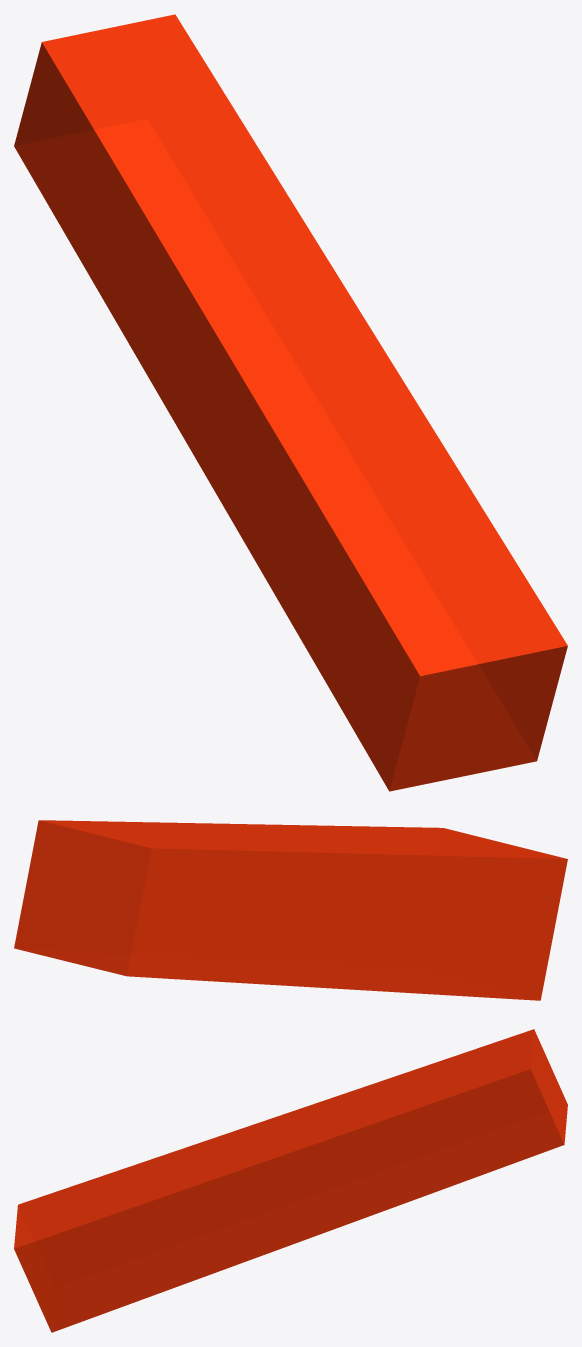
File: Event_420107950_EBrechit_0.fbx
3 views of the same model, one above another, from view 1: azimuth 30°, elevation 25°; view 2: azimuth 150°, elevation 25°; view 3: azimuth 270°, elevation 25° (orthographic). The views are drawn at different scales.
Visible parts, largest first — view 1: Model; view 2: Model; view 3: Model.
Boxes of the visible parts, <box> form: Model: <box>14,14,567,791</box>; Model: <box>14,820,567,1000</box>; Model: <box>14,1029,567,1332</box>.
Size of the model in its own units: 0.0763 by 0.1862 by 0.3402.
